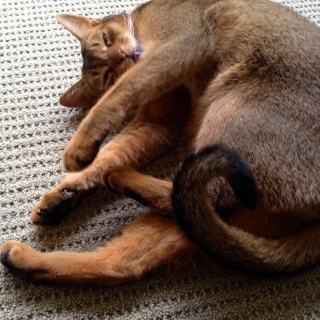Cat: (0, 0, 319, 287)
